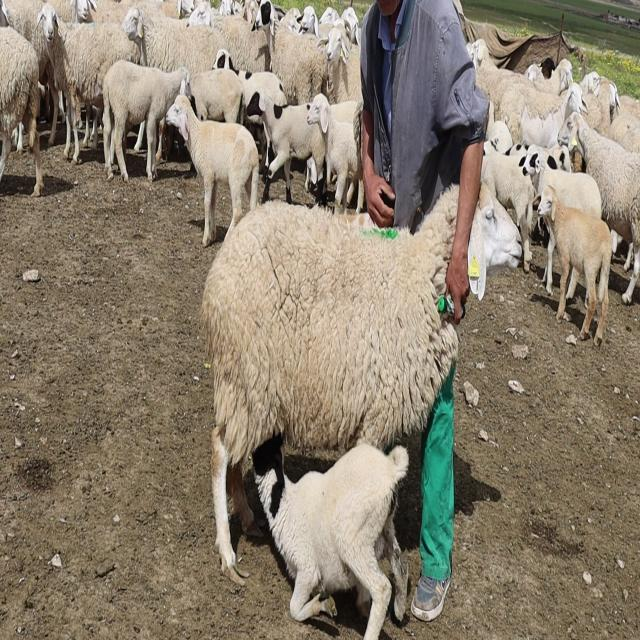Score_5: (202, 185, 459, 586)
